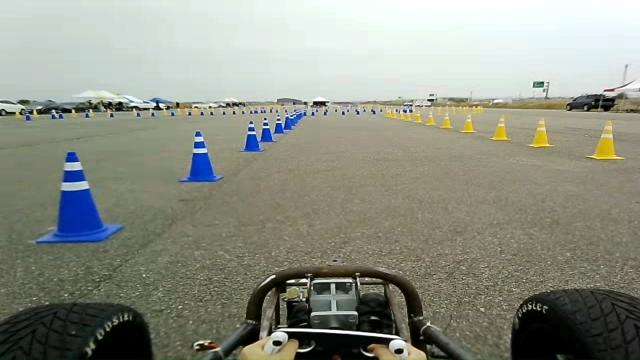blue cone: (34, 151, 124, 244), (178, 130, 224, 182), (238, 120, 264, 152), (258, 117, 276, 142), (273, 115, 285, 134), (290, 110, 304, 124), (25, 113, 31, 121)
yellow cone: (585, 120, 624, 160), (526, 117, 554, 147), (489, 115, 511, 140), (459, 114, 476, 132), (439, 113, 453, 129), (424, 111, 436, 125), (413, 113, 423, 123), (384, 108, 394, 118), (403, 112, 412, 121), (70, 108, 78, 117), (396, 111, 404, 119), (88, 108, 95, 117), (15, 111, 22, 118), (32, 109, 38, 117)
